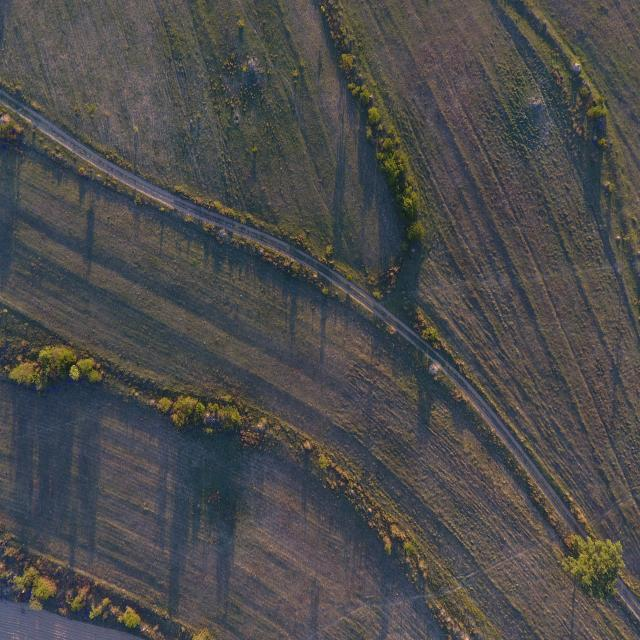boundaries: (23, 87, 629, 610), (13, 299, 516, 630)
